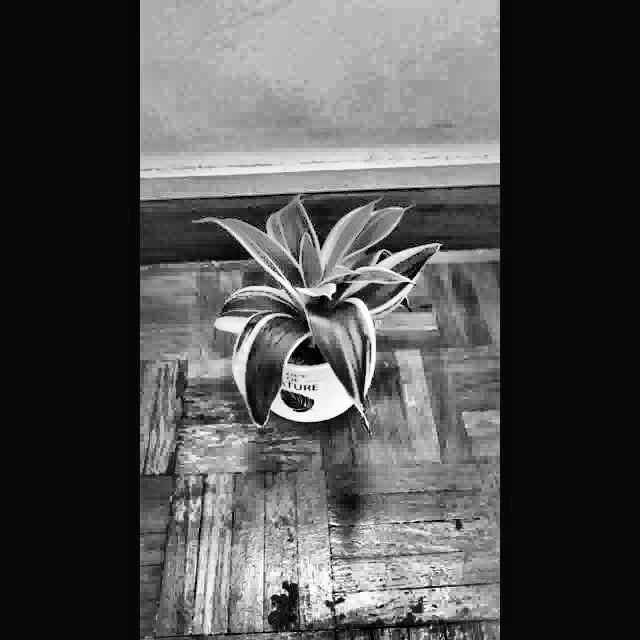plants: (188, 184, 444, 432)
